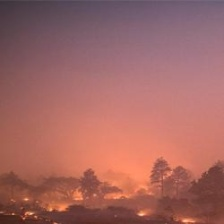fire: (6, 188, 208, 224)
